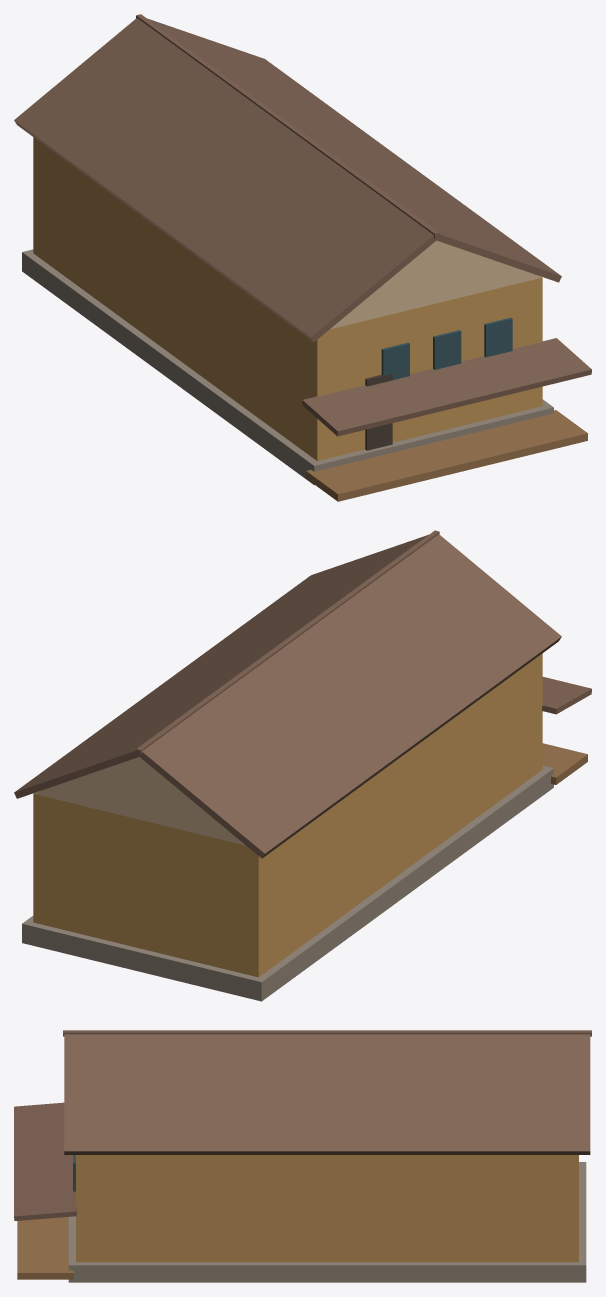
Rendered from arizona-depot_lod1.glb.
3 views of the same model, one above another, from view 1: azimuth 30°, elevation 25°; view 2: azimuth 150°, elevation 25°; view 3: azimuth 270°, elevation 25° (orthographic). The views are drawn at different scales.
Visible parts, largest first — view 1: RF_AZ_Depot_RoofLeft, RF_AZ_Depot_Walls, RF_AZ_Depot_RoofRight, RF_AZ_Depot_PorchRoof, RF_AZ_Depot_Foundation, RF_AZ_Depot_PorchDeck, RF_AZ_Depot_Gable, RF_AZ_Depot_Ridge, RF_AZ_Depot_Window.001, RF_AZ_Depot_Window.002, RF_AZ_Depot_Window, RF_AZ_Depot_Door; view 2: RF_AZ_Depot_Walls, RF_AZ_Depot_RoofLeft, RF_AZ_Depot_RoofRight, RF_AZ_Depot_Foundation, RF_AZ_Depot_Gable.001, RF_AZ_Depot_Ridge, RF_AZ_Depot_PorchRoof, RF_AZ_Depot_PorchDeck; view 3: RF_AZ_Depot_RoofRight, RF_AZ_Depot_Walls, RF_AZ_Depot_Foundation, RF_AZ_Depot_PorchRoof, RF_AZ_Depot_PorchDeck, RF_AZ_Depot_Ridge.
Part boxes in pixels (x1,y1,x2,y2): RF_AZ_Depot_RoofLeft: [14, 18, 437, 341]; RF_AZ_Depot_Walls: [33, 137, 542, 460]; RF_AZ_Depot_RoofRight: [147, 18, 561, 282]; RF_AZ_Depot_PorchRoof: [302, 338, 591, 436]; RF_AZ_Depot_Foundation: [22, 249, 553, 485]; RF_AZ_Depot_PorchDeck: [306, 410, 587, 501]; RF_AZ_Depot_Gable: [330, 240, 542, 329]; RF_AZ_Depot_Ridge: [136, 14, 439, 238]; RF_AZ_Depot_Window.001: [433, 330, 461, 369]; RF_AZ_Depot_Window.002: [484, 317, 512, 357]; RF_AZ_Depot_Window: [381, 342, 409, 379]; RF_AZ_Depot_Door: [365, 373, 392, 450]; RF_AZ_Depot_Walls: [33, 653, 542, 977]; RF_AZ_Depot_RoofLeft: [138, 534, 561, 858]; RF_AZ_Depot_RoofRight: [14, 534, 428, 798]; RF_AZ_Depot_Foundation: [22, 765, 553, 1001]; RF_AZ_Depot_Gable.001: [33, 757, 245, 845]; RF_AZ_Depot_Ridge: [136, 530, 439, 754]; RF_AZ_Depot_PorchRoof: [542, 677, 591, 714]; RF_AZ_Depot_PorchDeck: [542, 743, 587, 784]; RF_AZ_Depot_RoofRight: [64, 1034, 590, 1154]; RF_AZ_Depot_Walls: [76, 1155, 578, 1262]; RF_AZ_Depot_Foundation: [68, 1162, 586, 1282]; RF_AZ_Depot_PorchRoof: [14, 1102, 76, 1220]; RF_AZ_Depot_PorchDeck: [17, 1217, 73, 1279]; RF_AZ_Depot_Ridge: [63, 1030, 591, 1036].
Bounding box in the file's own units: 12.4 × 10.49 × 27.58.
